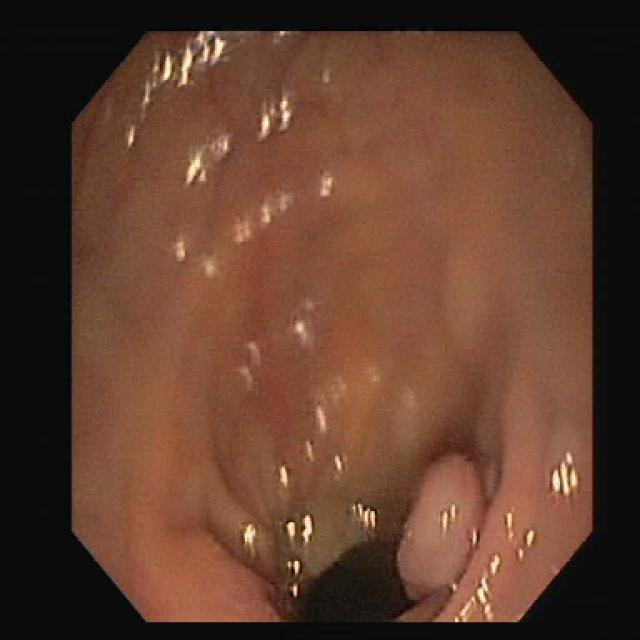tumor: (397, 453, 488, 602)
